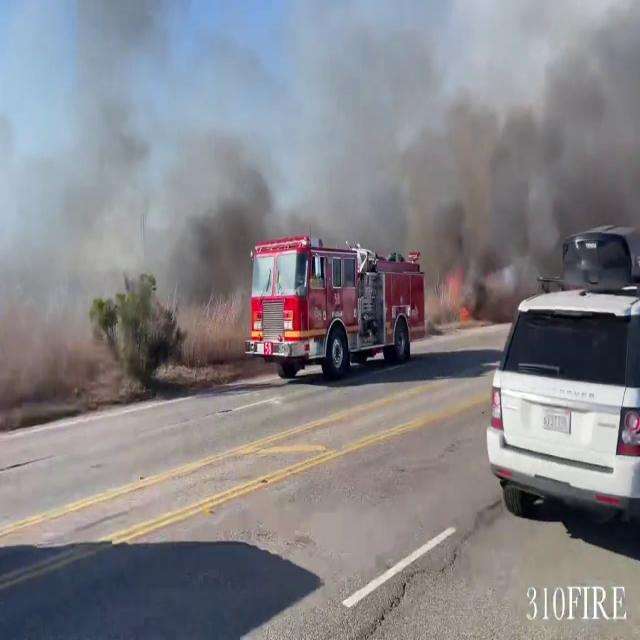Smoke: (0, 0, 306, 344), (423, 2, 640, 292)
